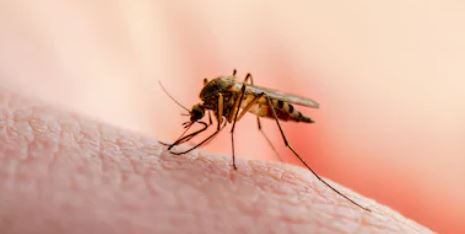dengue_mosquito: (158, 69, 320, 173)
